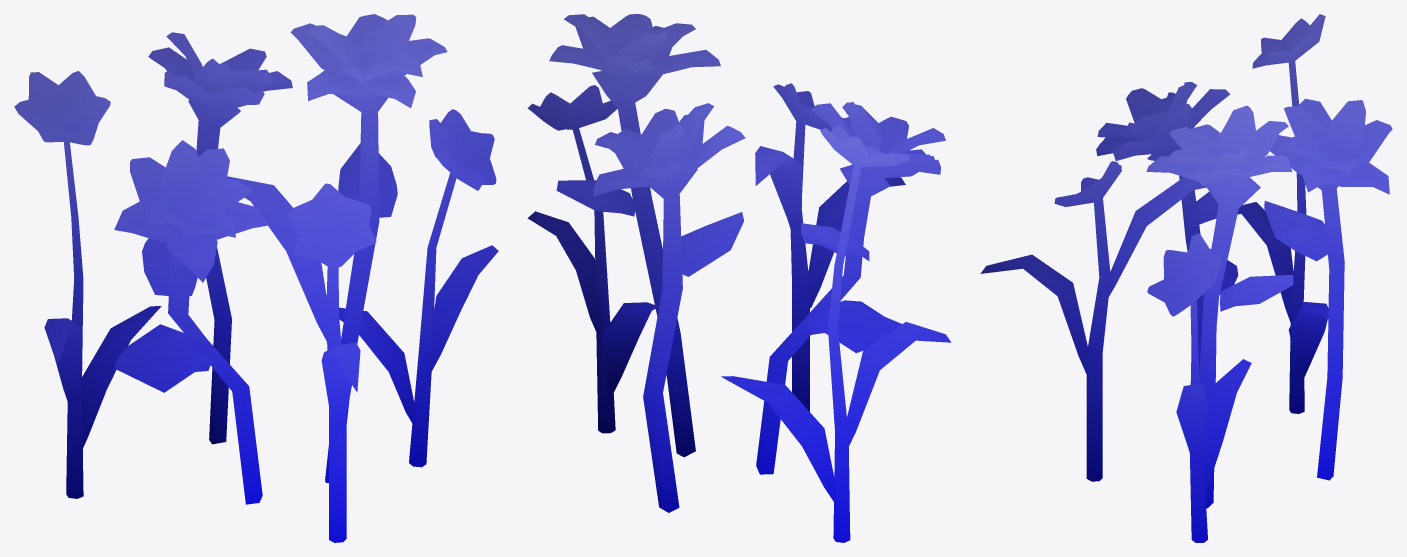
File: SM_Env_Wildflowers_01.FBX
The picture shows the model from 3 angles, left to right: view 1: azimuth 30°, elevation 25°; view 2: azimuth 150°, elevation 25°; view 3: azimuth 270°, elevation 25°; orthographic projection. The views are drawn at different scales.
Parts seen in each view (by area): view 1: SM_Env_Wildflowers_01; view 2: SM_Env_Wildflowers_01; view 3: SM_Env_Wildflowers_01.
Part boxes in pixels (<box>): SM_Env_Wildflowers_01: <box>14,14,498,542</box>; SM_Env_Wildflowers_01: <box>527,14,951,542</box>; SM_Env_Wildflowers_01: <box>980,14,1392,542</box>.
Bounding box in the file's own units: 68.23 × 61.48 × 65.78.
